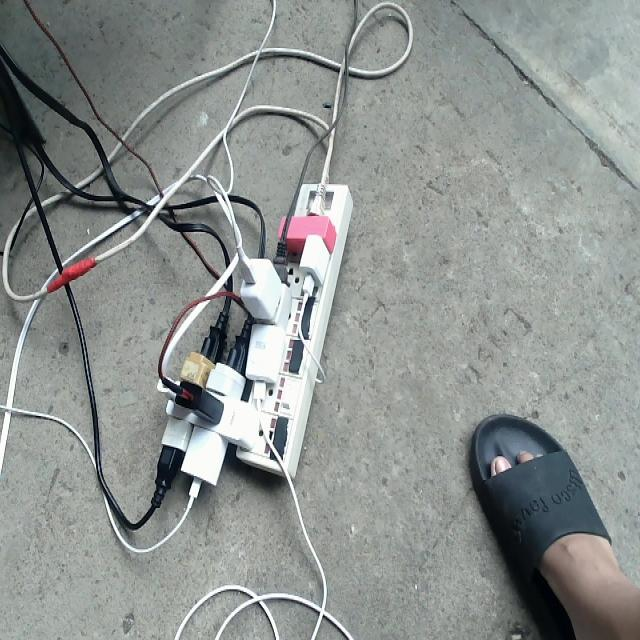-: (150, 180, 352, 512)
